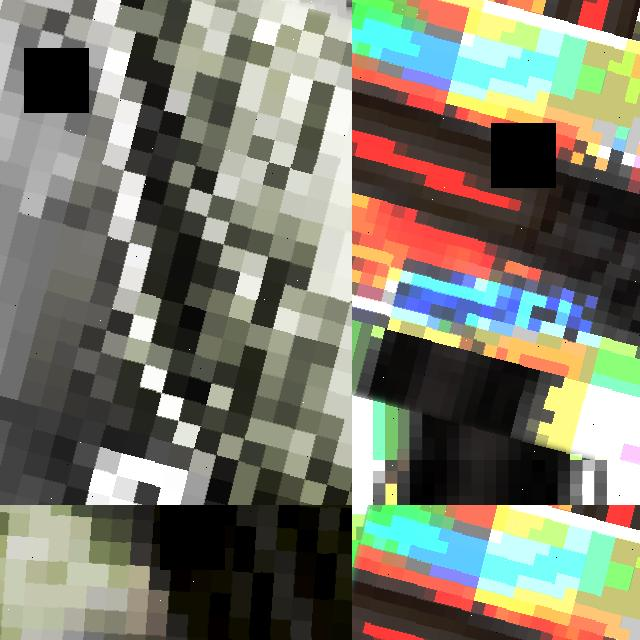arms: (0, 0, 352, 505), (0, 0, 352, 416), (352, 0, 640, 460), (0, 505, 352, 640), (352, 505, 640, 640)
